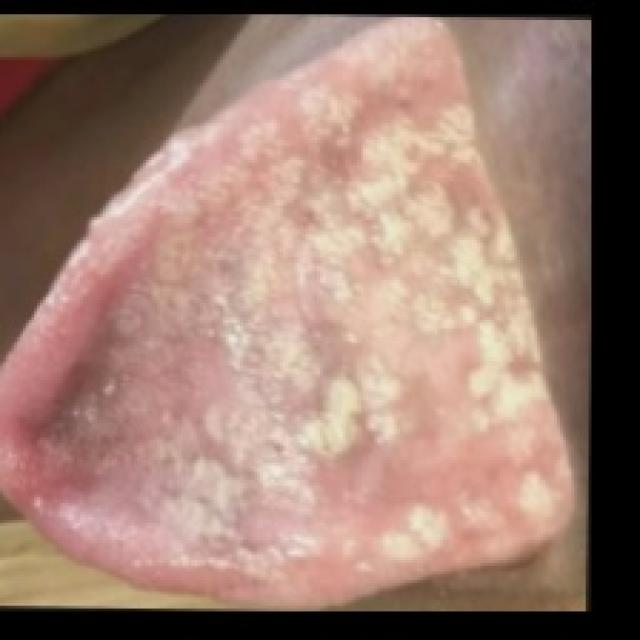leukoplakia-like-detection: (45, 28, 569, 612)
processing_area: (0, 20, 574, 613)
